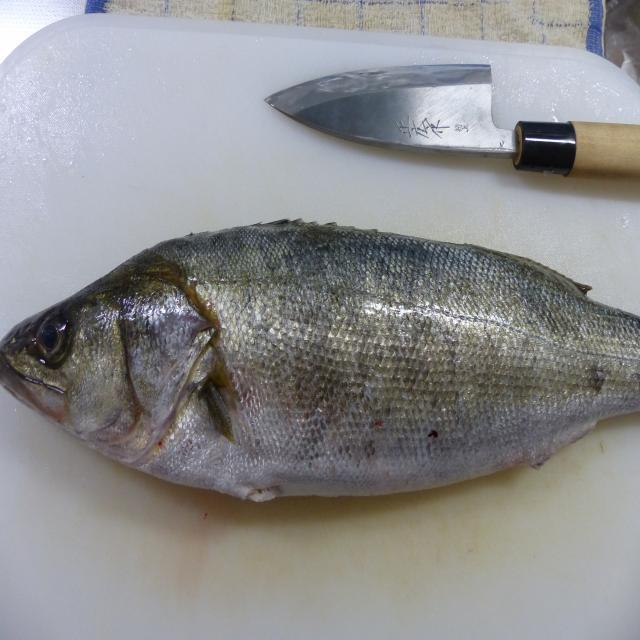EUS Disease: (0, 220, 640, 505)
